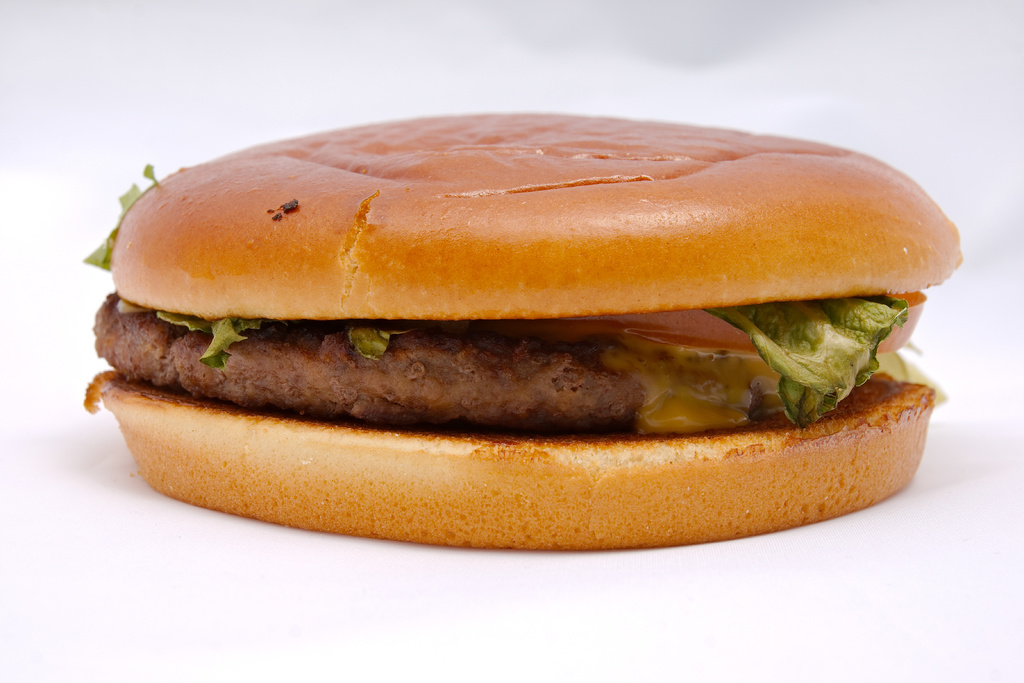Hamburger: (81, 114, 963, 551)
